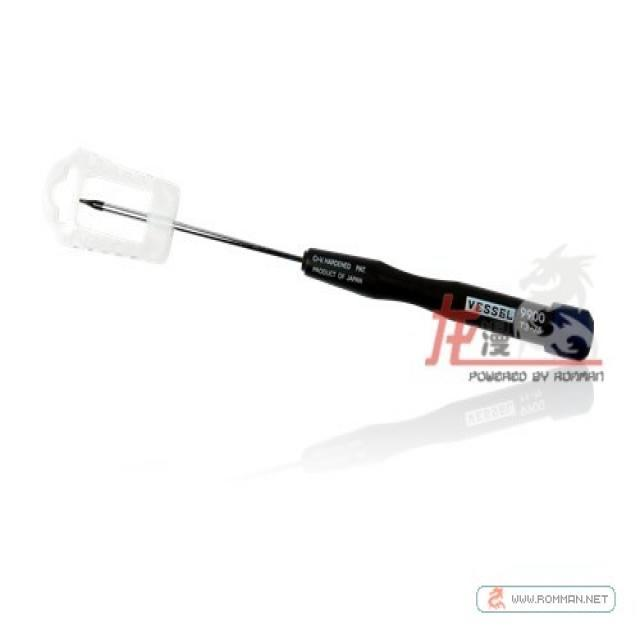screwdriver: (52, 160, 602, 389)
